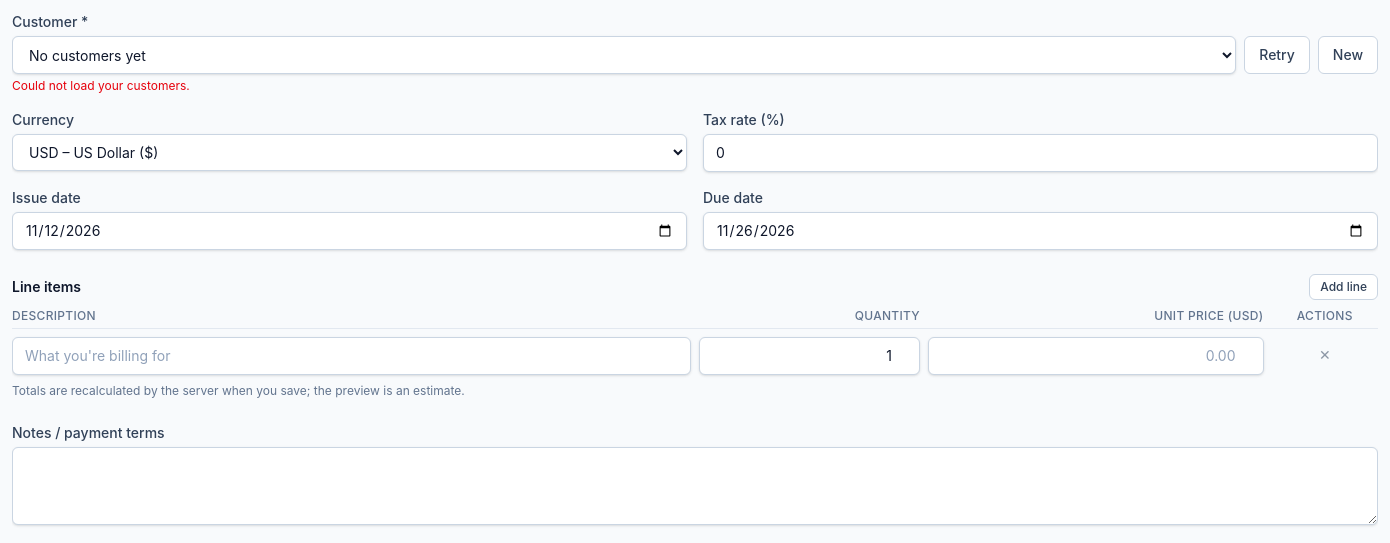
Test: InvoiceEditor › shows loading, empty and error states for the customer list
The image size is (1390, 543).
Expected: the text "Could not load your customers." is shown, [12,78,190,93]
Click the button "Retry": {"x": 1277, "y": 55} [1244,36,1310,74]
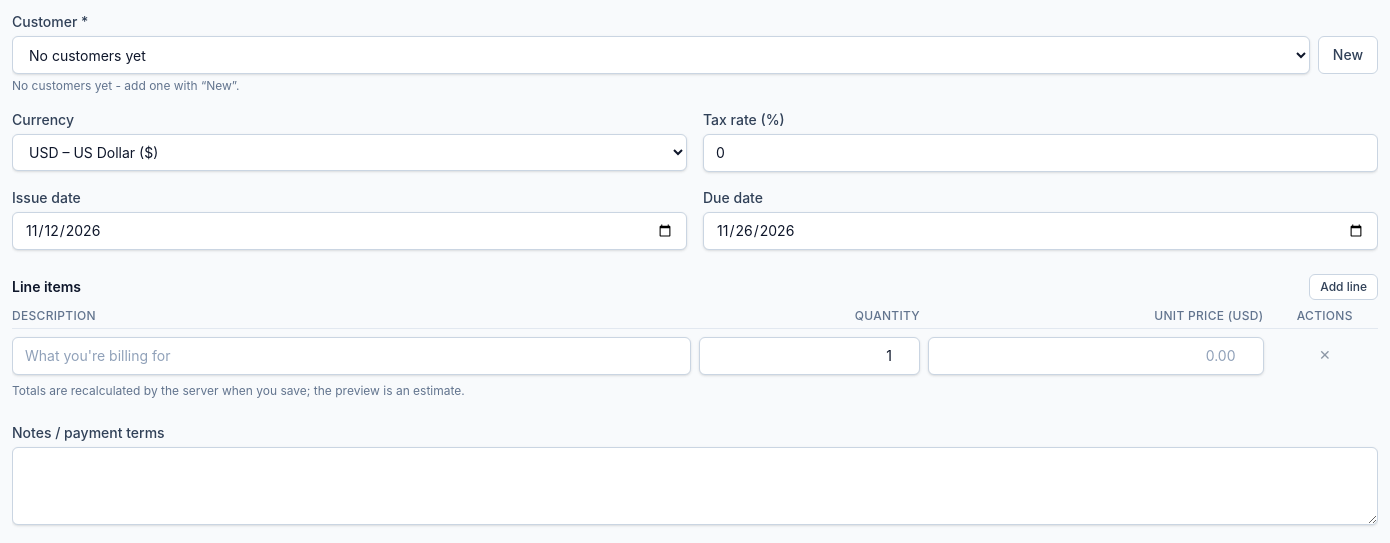
Expected: the text "No customers yet - add one with “New”." is shown, [12,78,239,93]
